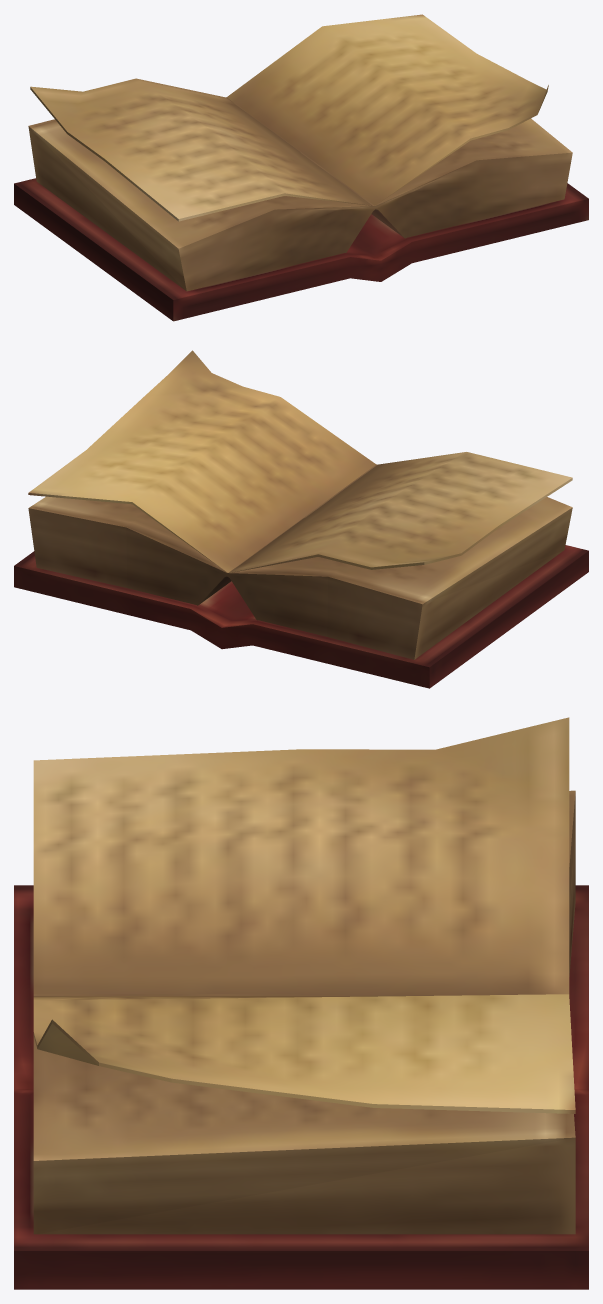
File: book2.FBX
3 views of the same model, one above another, from view 1: azimuth 30°, elevation 25°; view 2: azimuth 150°, elevation 25°; view 3: azimuth 270°, elevation 25° (orthographic). The views are drawn at different scales.
Visible parts, largest first — view 1: book2; view 2: book2; view 3: book2.
Boxes of the visible parts, x1,y1,x2,y2 form: book2: [14, 14, 588, 321]; book2: [14, 350, 588, 688]; book2: [14, 717, 588, 1289].
Bounding box in the file's own units: 46.52 × 15.68 × 30.9.
